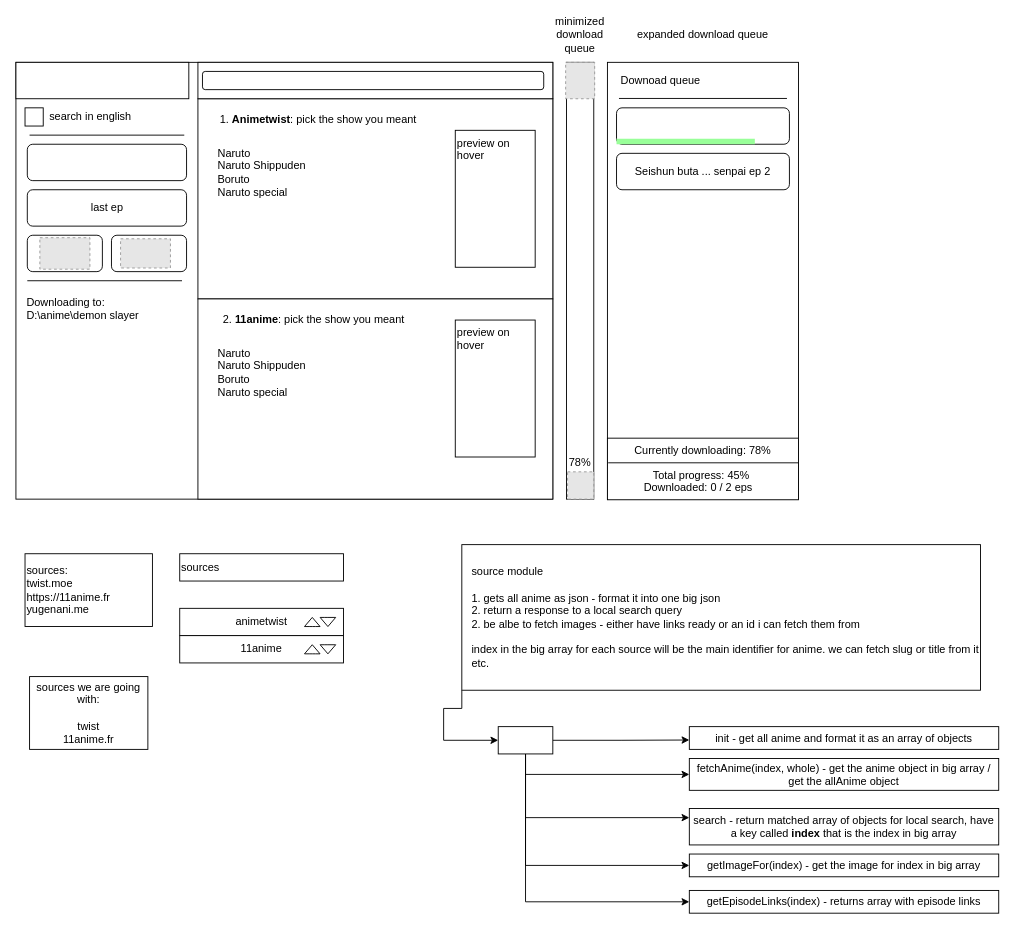
Some shapes in this 1015 by 929 pixel diagram are drawn without their labels. Grey dashed boxes stand in for pictures. The shapes that lost their labels are listed below. From the top down, each one's centre as x and y in pixels, then its label:
the point at 102,80: anime-downlaoder
the point at 373,80: Search: Naruto
the point at 702,125: Seishun buta ... senpai ep 1
the point at 106,162: first ep
the point at 525,740: functions:
